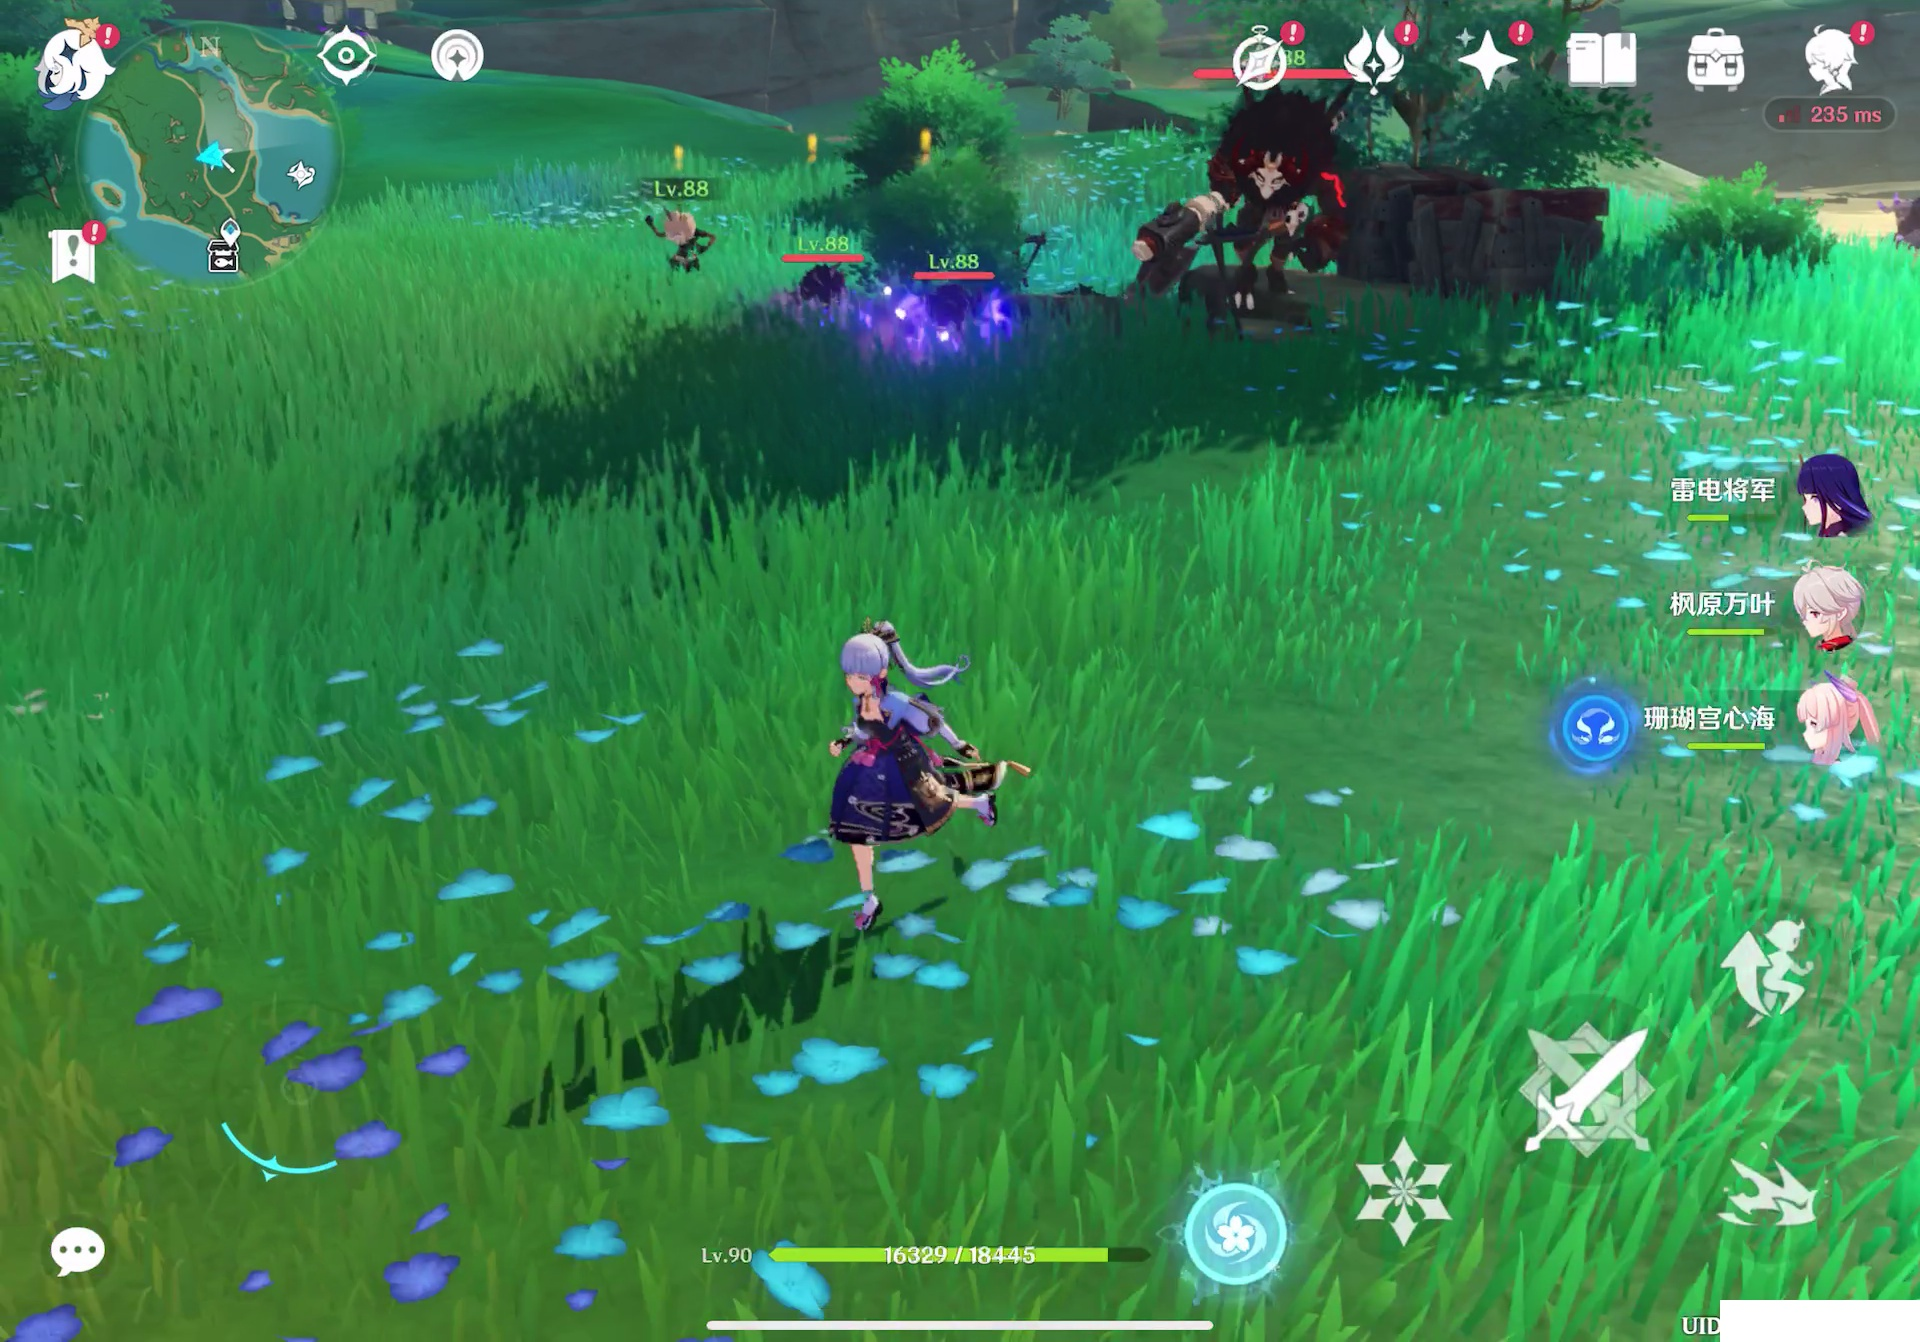NTR: (1170, 88, 1355, 308)
丘丘人: (907, 284, 998, 335), (654, 203, 718, 271), (786, 263, 856, 319)
神里绫龟: (795, 629, 1015, 907)
